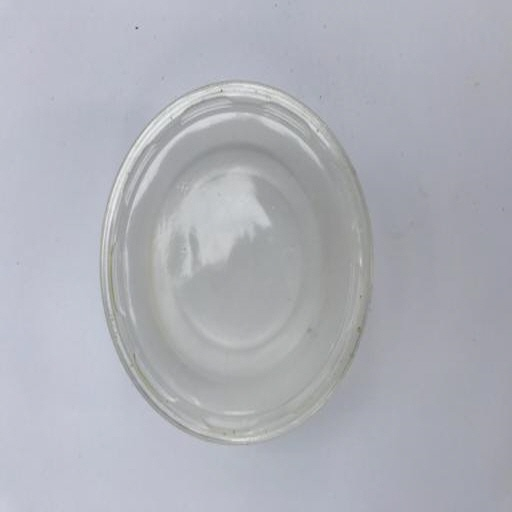Plastic_5: (98, 81, 374, 445)
